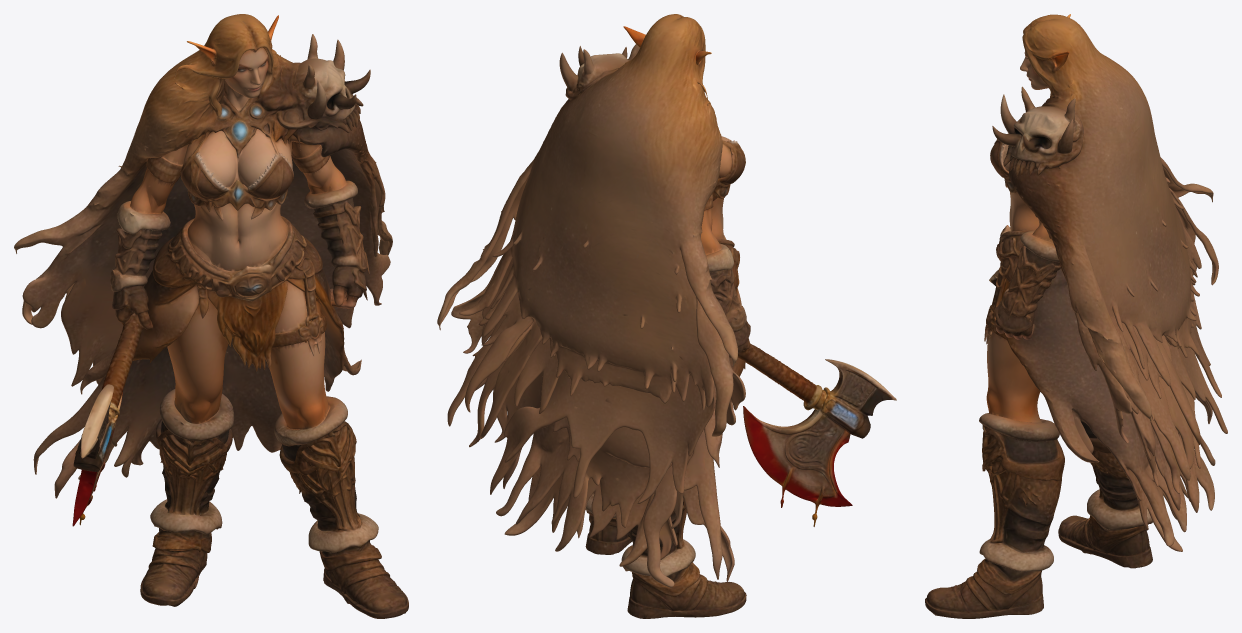
File: elf_barbarian_full_female_01.glb
The picture shows the model from 3 angles, left to right: view 1: azimuth 30°, elevation 25°; view 2: azimuth 150°, elevation 25°; view 3: azimuth 270°, elevation 25°; orthographic projection. The views are drawn at different scales.
Visible parts, largest first — view 1: material; view 2: material; view 3: material.
Part boxes in pixels (<box>): material: <box>14,14,408,618</box>; material: <box>437,14,896,618</box>; material: <box>925,14,1227,618</box>.
Size of the model in its own units: 0.7313 by 1.04 by 0.5179.
Materials: 1 (1 with a texture image).
